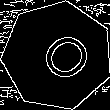O_SW: (24, 23, 91, 89)
